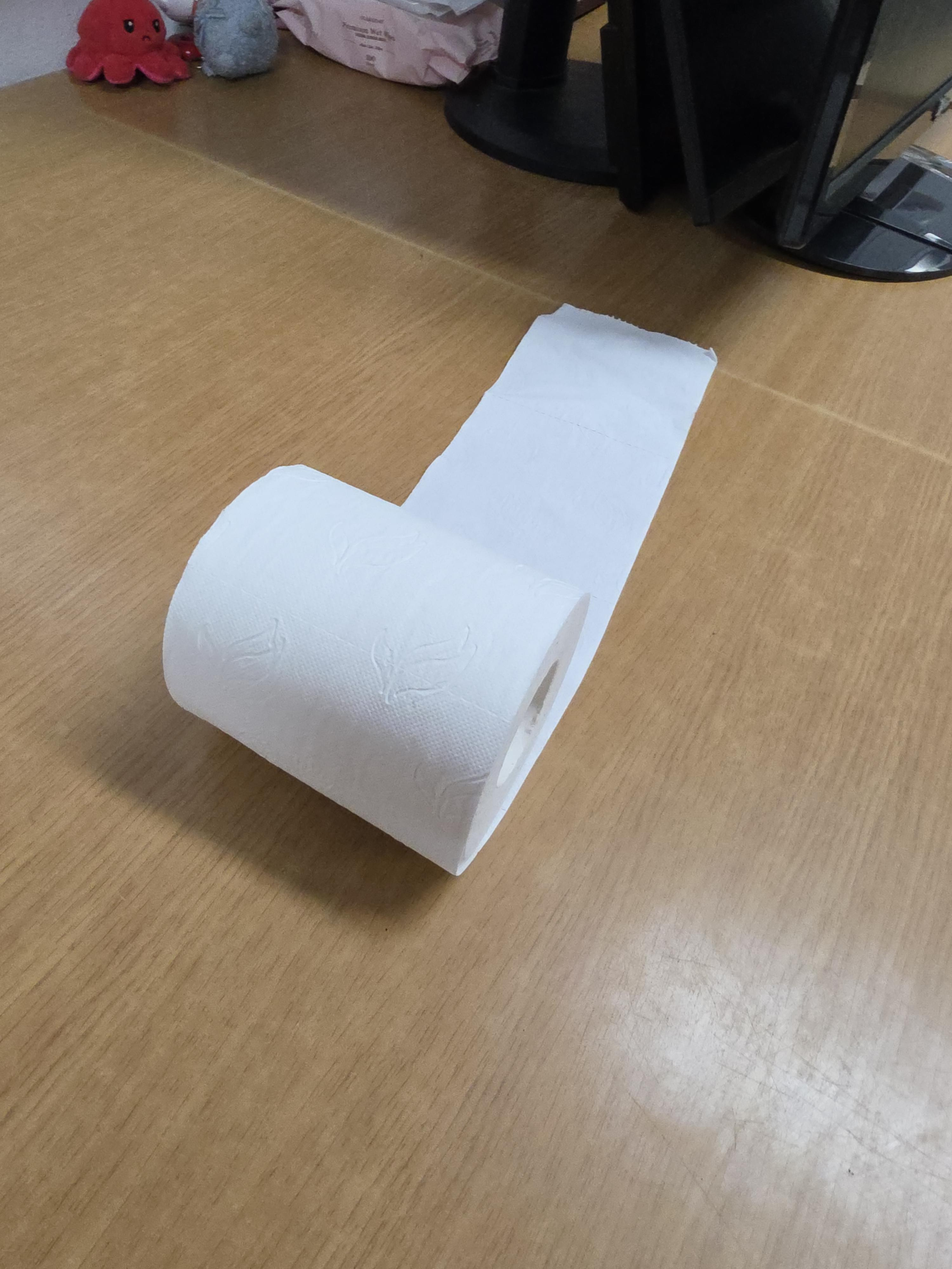tissue: (162, 303, 718, 877)
